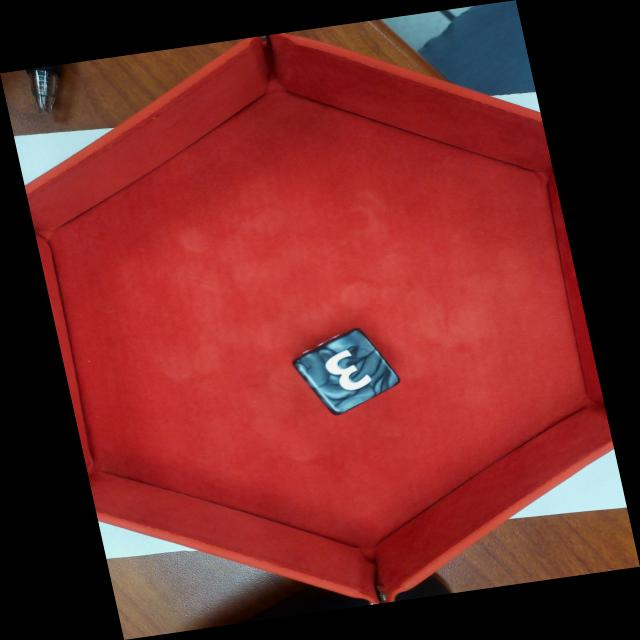dice: (300, 332, 400, 413)
